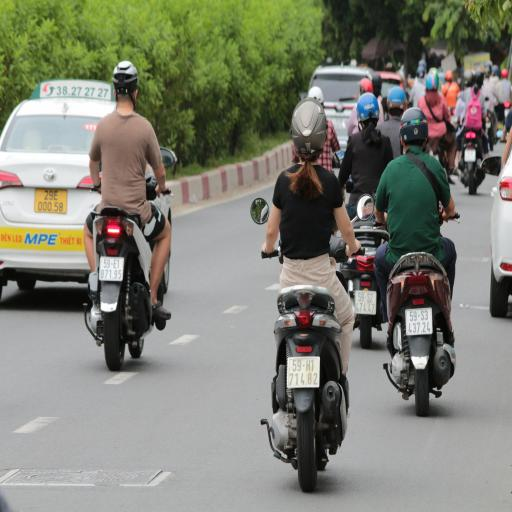place: (288, 357, 320, 388), (34, 189, 67, 214), (407, 312, 432, 334), (357, 290, 376, 317), (102, 257, 122, 281)
